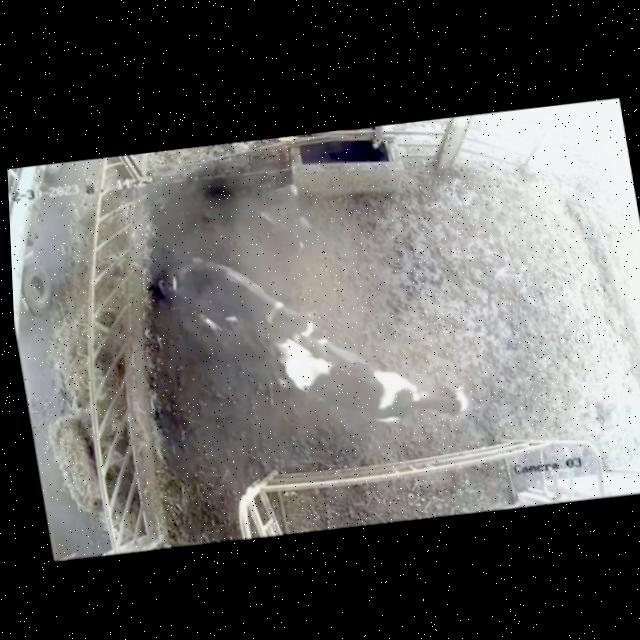ride: (147, 237, 349, 392)
stand: (257, 307, 501, 465)
